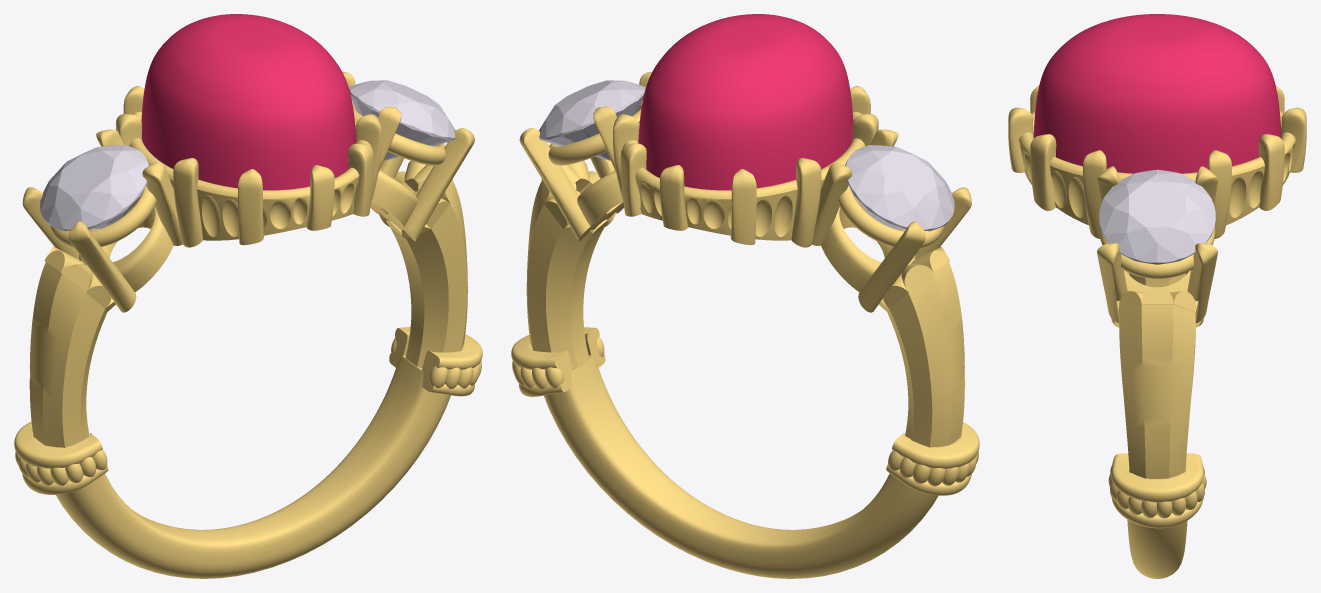
The model's file is NickV2YG_blender.glb.
3 renders of one model, left to right at view 1: azimuth 30°, elevation 25°; view 2: azimuth 150°, elevation 25°; view 3: azimuth 270°, elevation 25°, orthographic.
Parts seen in each view (by area): view 1: v2 Nick YG for 3d model, Nicholas ruby for 3d model, Nicholas dia for 3d model.001, Nicholas dia for 3d model; view 2: v2 Nick YG for 3d model, Nicholas ruby for 3d model, Nicholas dia for 3d model.001, Nicholas dia for 3d model; view 3: v2 Nick YG for 3d model, Nicholas ruby for 3d model, Nicholas dia for 3d model.
Part boxes in pixels (x1=…): v2 Nick YG for 3d model: x1=14, y1=72, x2=482, y2=578; Nicholas ruby for 3d model: x1=141, y1=14, x2=356, y2=190; Nicholas dia for 3d model.001: x1=40, y1=145, x2=149, y2=231; Nicholas dia for 3d model: x1=349, y1=80, x2=455, y2=160; v2 Nick YG for 3d model: x1=511, y1=72, x2=979, y2=578; Nicholas ruby for 3d model: x1=638, y1=14, x2=853, y2=190; Nicholas dia for 3d model.001: x1=845, y1=145, x2=954, y2=231; Nicholas dia for 3d model: x1=539, y1=80, x2=645, y2=160; v2 Nick YG for 3d model: x1=1008, y1=85, x2=1306, y2=578; Nicholas ruby for 3d model: x1=1033, y1=14, x2=1281, y2=173; Nicholas dia for 3d model: x1=1099, y1=169, x2=1215, y2=264.
Bounding box in the file's own units: 20.78 × 23.39 × 12.03.
